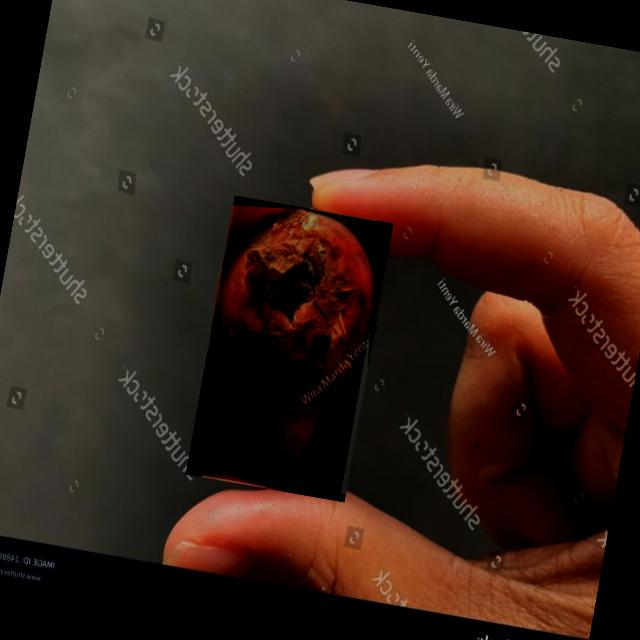rotten: (213, 208, 372, 490)
